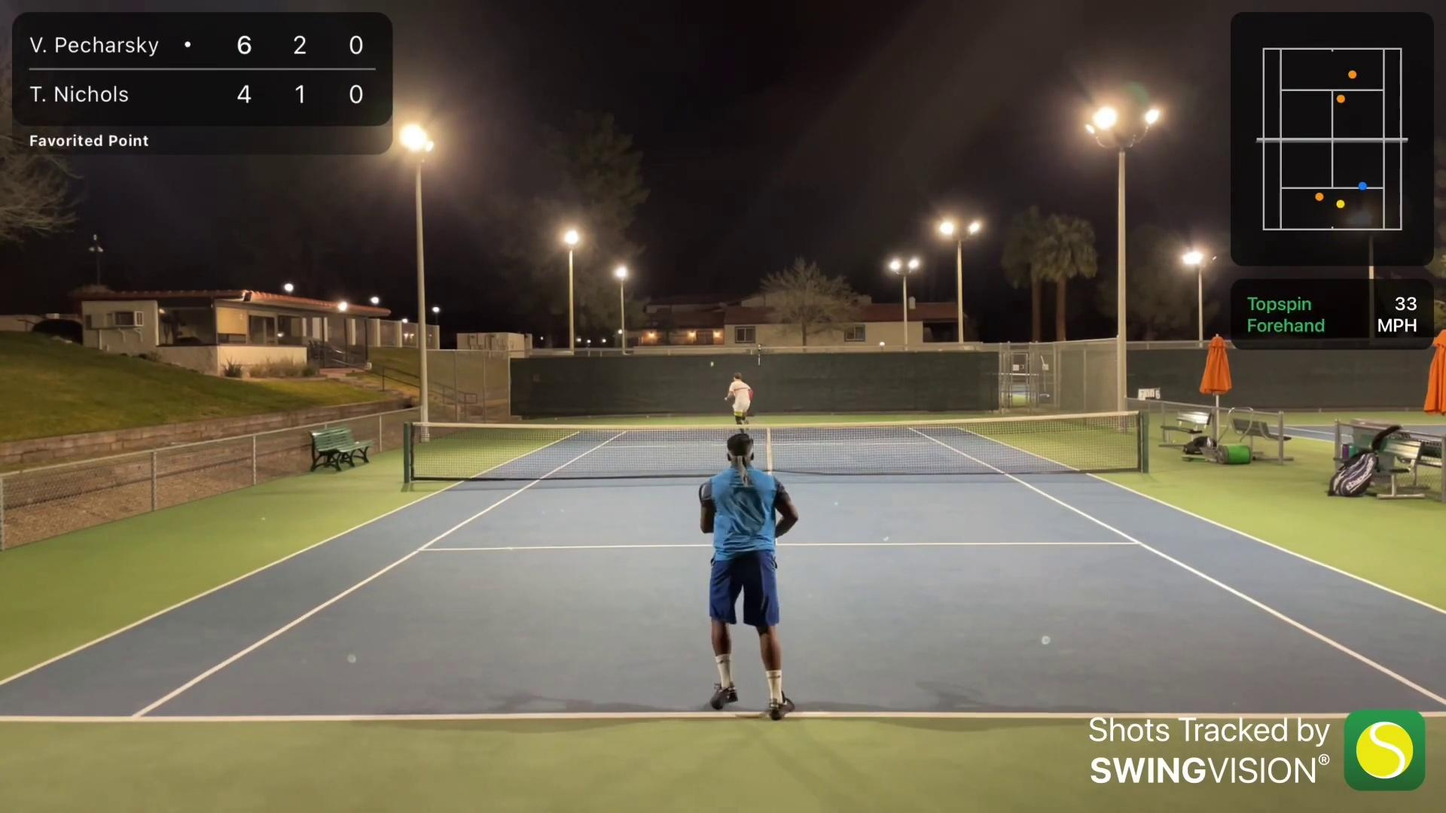ball: (710, 362, 715, 367)
